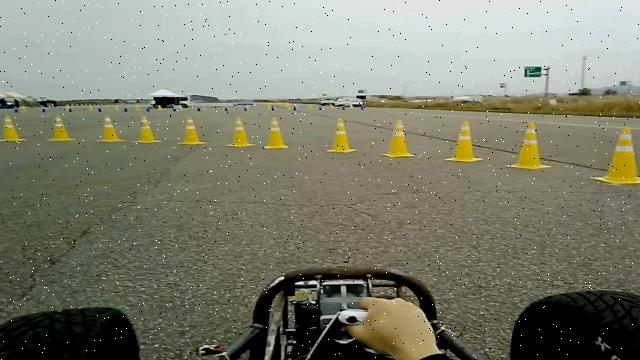yellow cone: (591, 126, 640, 185), (505, 121, 551, 170), (443, 120, 482, 162), (381, 119, 416, 158), (326, 117, 356, 153), (224, 116, 256, 147), (177, 115, 206, 145), (132, 115, 162, 143), (96, 115, 126, 142), (46, 114, 76, 141), (264, 116, 288, 149), (0, 115, 26, 142)
